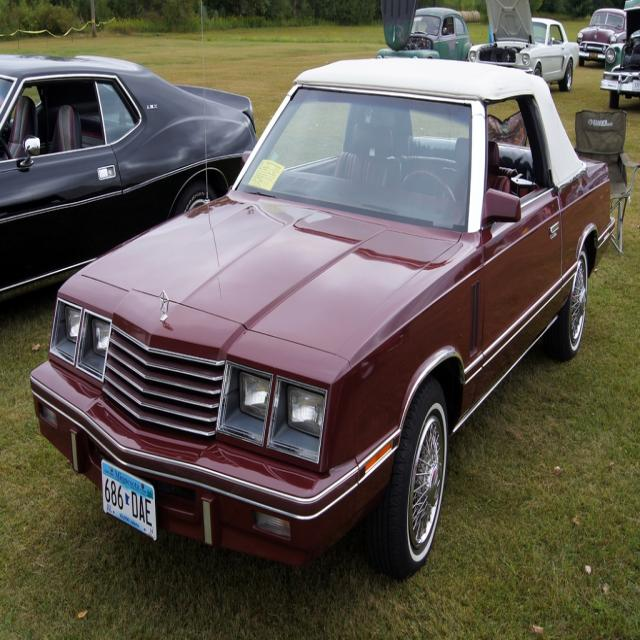car: (30, 67, 601, 578)
